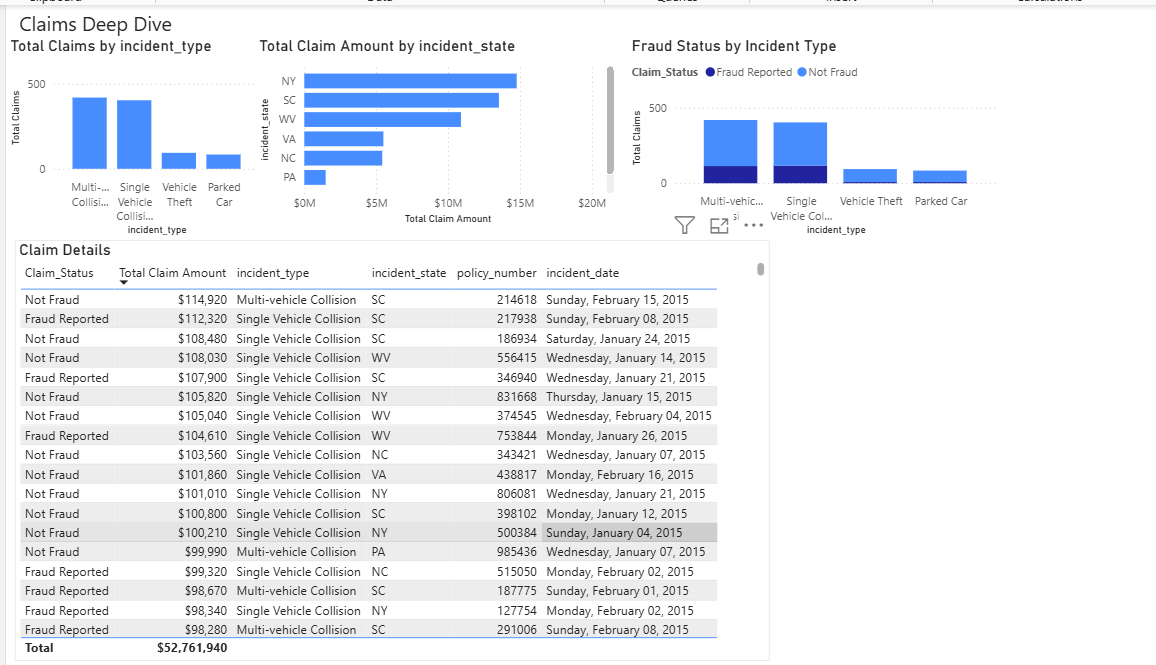

The page's visual inventory and layout, read from the dashboard file:
{"tool":"powerbi","page":{"name":"Claims Deep Dive","canvas":[1280,720],"ordinal":1},"visuals":[{"type":"textbox","box":[10,0,179.1,131.8],"z":0},{"type":"clusteredColumnChart","fields":{"Category":["Claims.incident_type"],"Y":["Claims.Total Claims"]},"box":[0,33.6,280,280],"z":1000},{"type":"clusteredBarChart","fields":{"Category":["Claims.incident_state"],"Y":["Claims.Total Claim Amount"]},"box":[268.8,33.8,393.8,208.8],"z":2000},{"type":"columnChart","title":"Fraud Status by Incident Type","fields":{"Category":["Claims.incident_type"],"Series":["Claims.Claim_Status"],"Y":["Claims.Total Claims"]},"box":[672.5,33.8,405,220],"z":3000},{"type":"tableEx","title":"Claim Details","fields":{"Values":["Claims.Claim_Status","Claims.Total Claim Amount","Claims.incident_type","Claims.incident_state","Claims.policy_number","Claims.incident_date"]},"box":[280,235,765,475],"z":3001}]}

Visuals, with their boxes on the page's 1280x720 design canvas (x1, y1, x2, y2). These are canvas units, not pixel positions in the 1156x665 screenshot, which may show the page scaled, cropped or inside an application window:
textbox: [x1=10, y1=0, x2=189, y2=132]
clusteredColumnChart - Claims.incident_type x Claims.Total Claims: [x1=0, y1=34, x2=280, y2=314]
clusteredBarChart - Claims.incident_state x Claims.Total Claim Amount: [x1=269, y1=34, x2=663, y2=243]
"Fraud Status by Incident Type" columnChart: [x1=672, y1=34, x2=1078, y2=254]
"Claim Details" tableEx: [x1=280, y1=235, x2=1045, y2=710]
